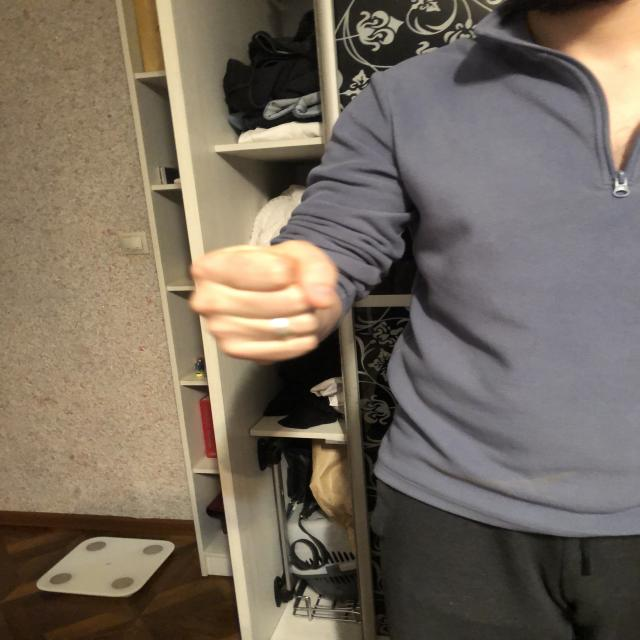rock: (192, 241, 337, 361)
